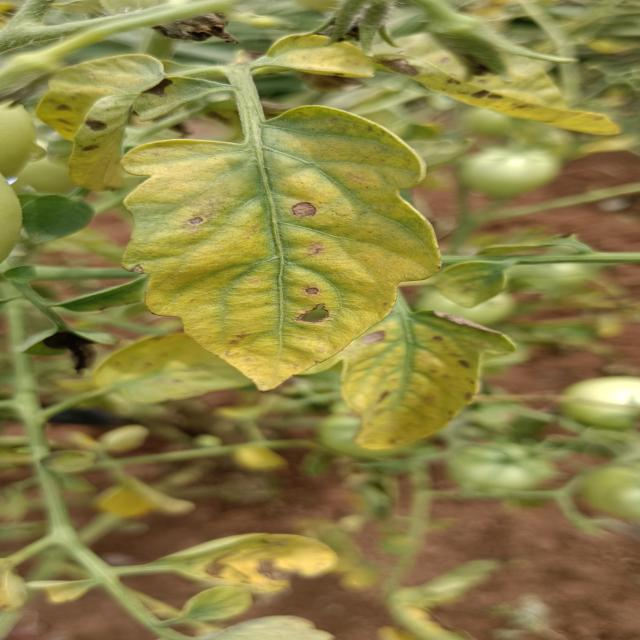tomato_early blight: (102, 106, 431, 379), (311, 305, 503, 463), (70, 306, 350, 406), (377, 38, 615, 139), (46, 49, 161, 169), (172, 526, 348, 599), (266, 28, 403, 86)
